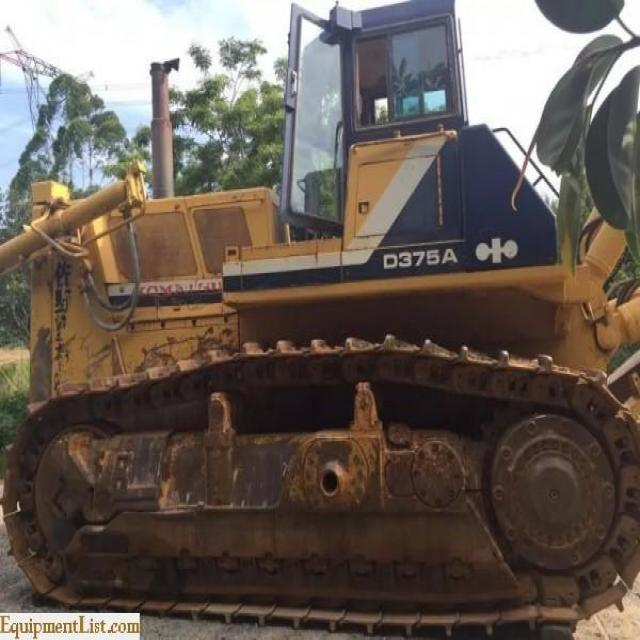Bulldozer: (12, 9, 639, 637)
